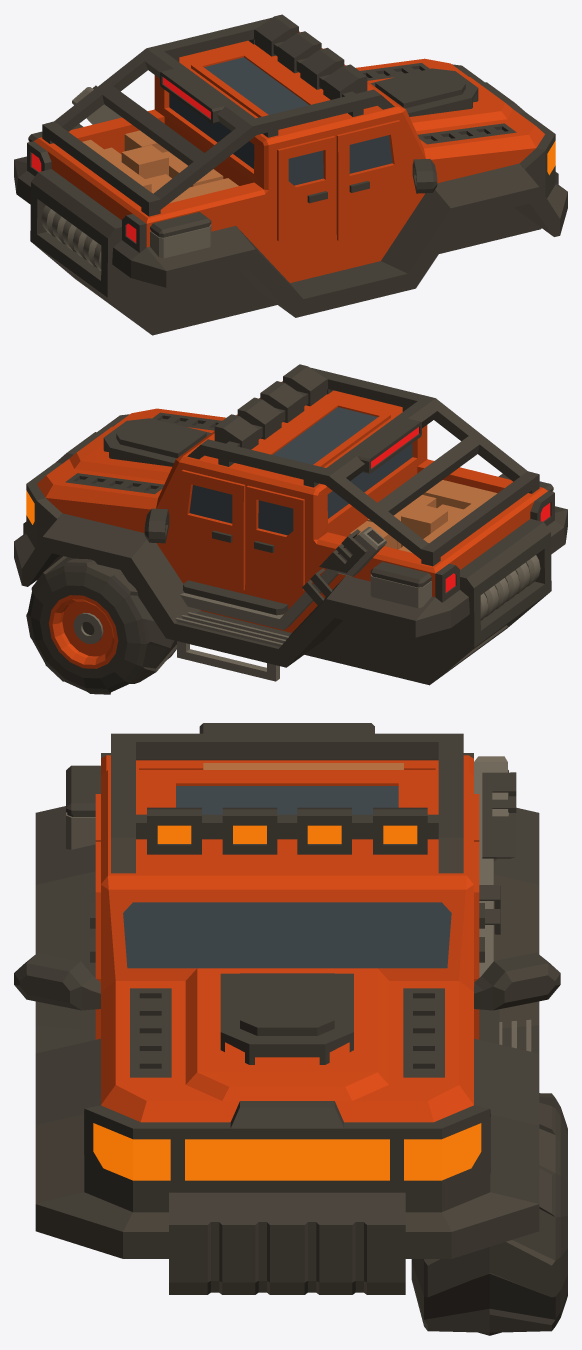
The picture shows the model from 3 angles, top to bottom: view 1: azimuth 30°, elevation 25°; view 2: azimuth 150°, elevation 25°; view 3: azimuth 270°, elevation 25°; orthographic projection. The views are drawn at different scales.
Visible parts, largest first — view 1: bodyBlack, bodyRed, glass, boxes, bodyMetal, stopLights; view 2: bodyBlack, bodyRed, wheel, bodyMetal, glass, boxes, stopLights; view 3: bodyBlack, bodyRed, glass, wheel, headlights, bodyMetal, blinkerRight, blinkerLeft, boxes.
Part boxes in pixels (left/top/right/bottom): bodyBlack: left=14, top=14, right=567, bottom=335; bodyRed: left=34, top=31, right=544, bottom=282; glass: left=169, top=57, right=392, bottom=185; boxes: left=82, top=130, right=238, bottom=203; bodyMetal: left=28, top=87, right=211, bottom=270; stopLights: left=31, top=77, right=210, bottom=242; bodyBlack: left=14, top=364, right=567, bottom=685; bodyRed: left=37, top=381, right=547, bottom=632; wheel: left=26, top=555, right=176, bottom=694; bodyMetal: left=175, top=491, right=553, bottom=681; glass: left=189, top=407, right=412, bottom=535; boxes: left=349, top=480, right=497, bottom=552; stopLights: left=371, top=427, right=550, bottom=592; bodyBlack: left=14, top=723, right=560, bottom=1294; bodyRed: left=95, top=755, right=479, bottom=1122; glass: left=123, top=786, right=451, bottom=968; wheel: left=411, top=1093, right=567, bottom=1335; headlights: left=157, top=825, right=417, bottom=1180; bodyMetal: left=66, top=756, right=531, bottom=1051; blinkerRight: left=93, top=1123, right=170, bottom=1180; blinkerLeft: left=404, top=1123, right=481, bottom=1180; boxes: left=203, top=763, right=403, bottom=769.
Size of the model in its own units: 2.99 by 1.67 by 1.91.
